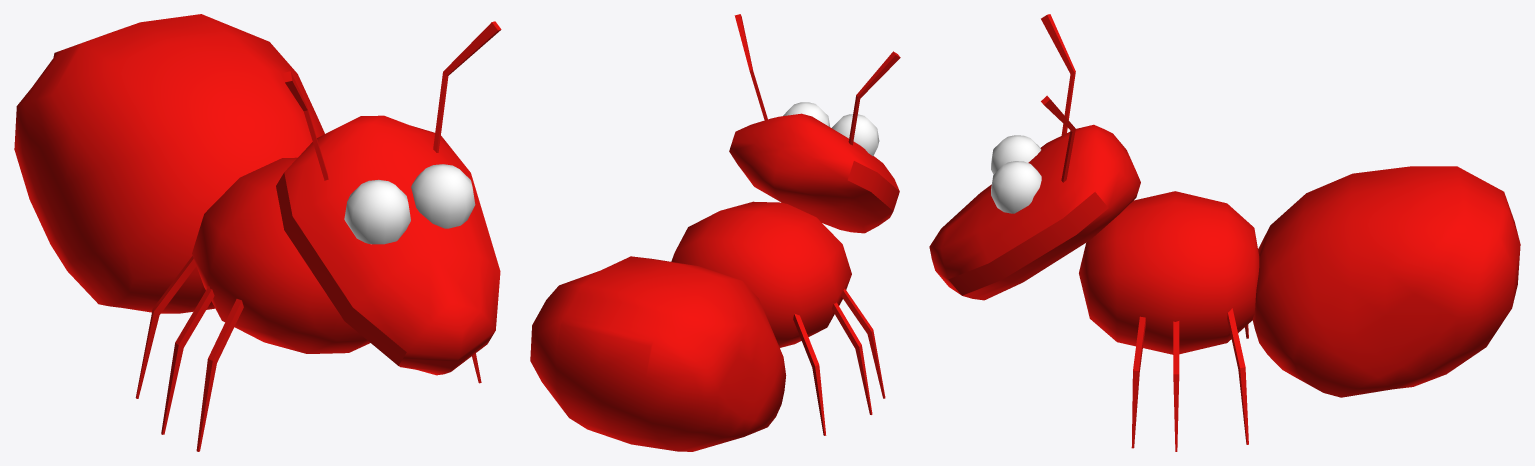
Rendered from fourmi_textV1.FBX.
3 views of the same model, side by side, from view 1: azimuth 30°, elevation 25°; view 2: azimuth 150°, elevation 25°; view 3: azimuth 270°, elevation 25° (orthographic). The views are drawn at different scales.
Visible parts, largest first — view 1: abdomen BU001, Plane005, Plane001, Sphere002, Sphere001, Plane009, Plane006, Plane007, Plane008; view 2: abdomen BU001, Plane001, Plane005, Plane009, Sphere002, Plane008, Plane007, Plane006, Sphere001; view 3: abdomen BU001, Plane001, Plane005, Sphere001, Plane009, Sphere002, Plane008, Plane006, Plane007.
Part boxes in pixels (box(x1,y1,x2,y2)): abdomen BU001: box(14, 14, 324, 313); Plane005: box(276, 115, 500, 375); Plane001: box(192, 157, 369, 353); Sphere002: box(344, 179, 410, 244); Sphere001: box(411, 164, 475, 228); Plane009: box(283, 21, 501, 180); Plane006: box(196, 299, 481, 451); Plane007: box(161, 286, 214, 434); Plane008: box(135, 256, 196, 398); abdomen BU001: box(530, 256, 786, 451); Plane001: box(671, 201, 851, 347); Plane005: box(729, 113, 899, 233); Plane009: box(734, 14, 900, 145); Sphere002: box(832, 114, 879, 156); Plane008: box(793, 313, 826, 435); Plane007: box(832, 302, 872, 414); Plane006: box(841, 288, 885, 398); Sphere001: box(783, 102, 829, 126); abdomen BU001: box(1252, 166, 1520, 397); Plane001: box(1079, 191, 1259, 354); Plane005: box(929, 124, 1140, 300); Sphere001: box(991, 161, 1041, 213); Plane009: box(1041, 14, 1075, 182); Sphere002: box(991, 135, 1041, 174); Plane008: box(1227, 308, 1248, 444); Plane006: box(1131, 316, 1145, 448); Plane007: box(1173, 321, 1179, 451).
Size of the model in its own units: 12.55 by 16.22 by 25.83.
